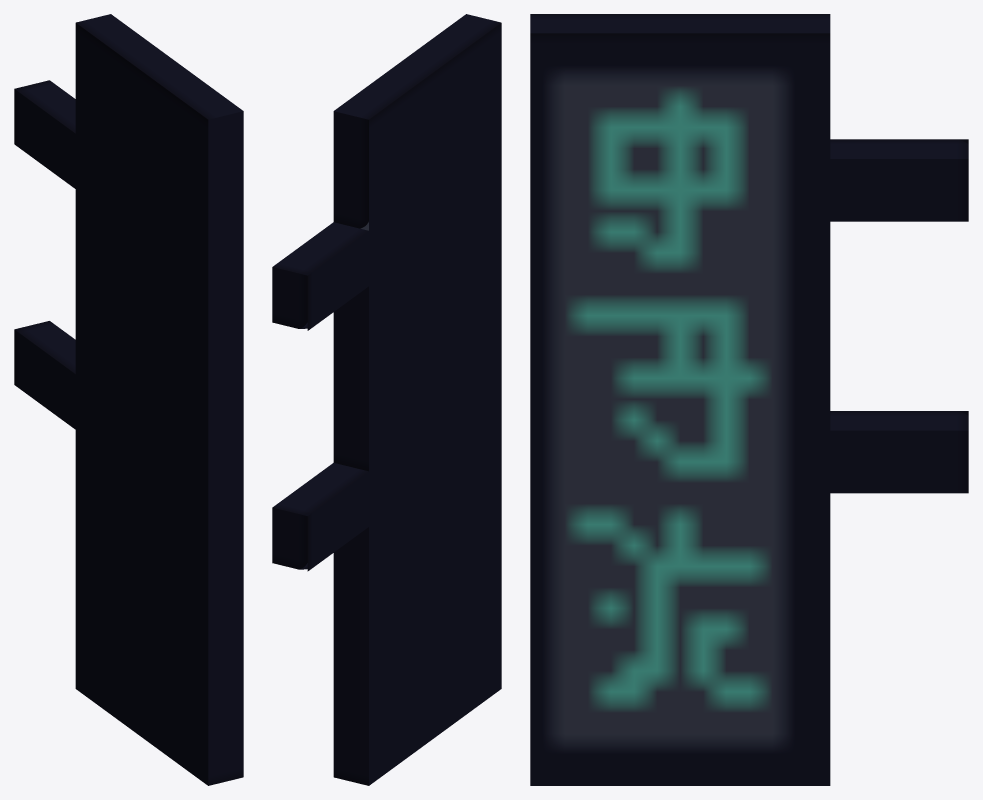
The model's file is napis_neo_1.dae.
3 renders of one model, left to right at view 1: azimuth 30°, elevation 25°; view 2: azimuth 150°, elevation 25°; view 3: azimuth 270°, elevation 25°, orthographic. The views are drawn at different scales.
Visible parts, largest first — view 1: Content; view 2: Content; view 3: Content.
Boxes of the visible parts, x1,y1,x2,y2 form: Content: [14, 14, 243, 785]; Content: [272, 14, 501, 785]; Content: [530, 14, 968, 785].
Bounding box in the file's own units: 2 × 36 × 19.
Materials: 1 (1 with a texture image).
